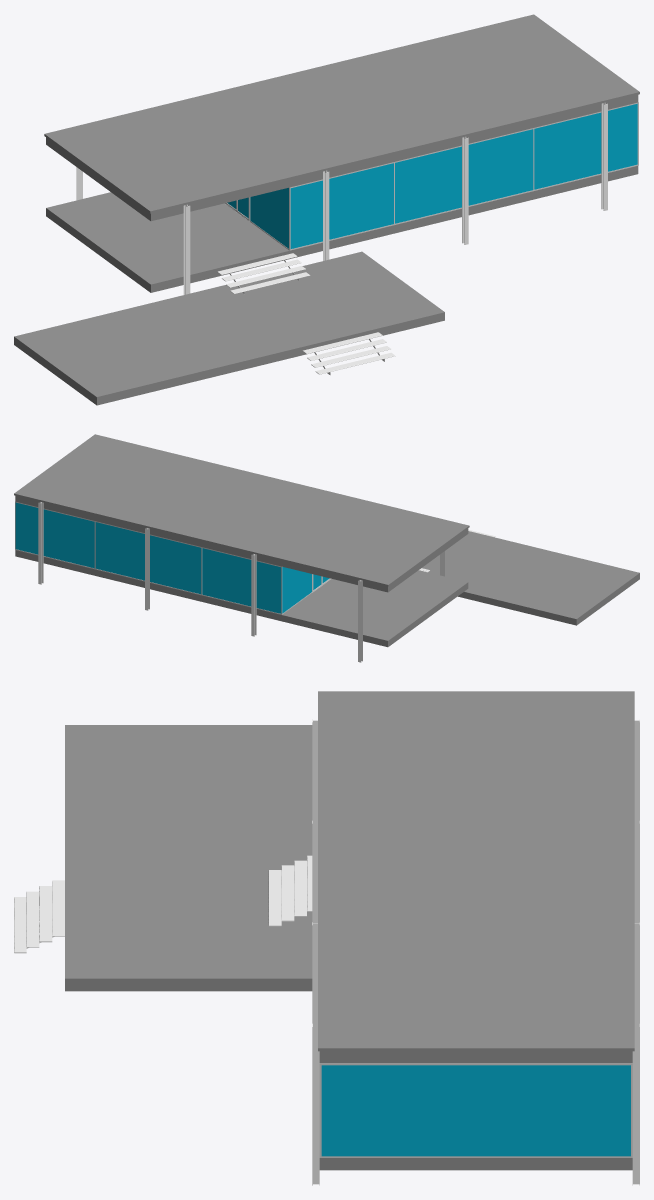
File: FWH.glb
3 renders of one model, top to bottom at view 1: azimuth 30°, elevation 25°; view 2: azimuth 150°, elevation 25°; view 3: azimuth 270°, elevation 25°, orthographic. The views are drawn at different scales.
Visible parts, largest first — view 1: 屋根, 床, システム パネル, 階段経路, H 形鋼 - 柱, 長方形マリオン; view 2: 屋根, 床, システム パネル, H 形鋼 - 柱, 長方形マリオン; view 3: 屋根, 床, システム パネル, H 形鋼 - 柱, 階段経路, 長方形マリオン.
Part boxes in pixels (bbox=[...]): 屋根: bbox=[44, 14, 639, 213]; 床: bbox=[14, 94, 638, 405]; システム パネル: bbox=[250, 103, 637, 248]; 階段経路: bbox=[217, 253, 395, 374]; H 形鋼 - 柱: bbox=[76, 102, 607, 294]; 長方形マリオン: bbox=[250, 102, 638, 250]; 屋根: bbox=[14, 434, 469, 586]; 床: bbox=[15, 495, 639, 647]; システム パネル: bbox=[15, 502, 311, 613]; H 形鋼 - 柱: bbox=[38, 502, 444, 662]; 長方形マリオン: bbox=[15, 501, 312, 614]; 屋根: bbox=[318, 691, 634, 1051]; 床: bbox=[65, 725, 632, 1170]; システム パネル: bbox=[321, 1065, 630, 1156]; H 形鋼 - 柱: bbox=[312, 719, 639, 1185]; 階段経路: bbox=[14, 855, 312, 953]; 長方形マリオン: bbox=[319, 1063, 632, 1157].
Size of the model in its own units: 29.75 by 4.92 by 17.2.
